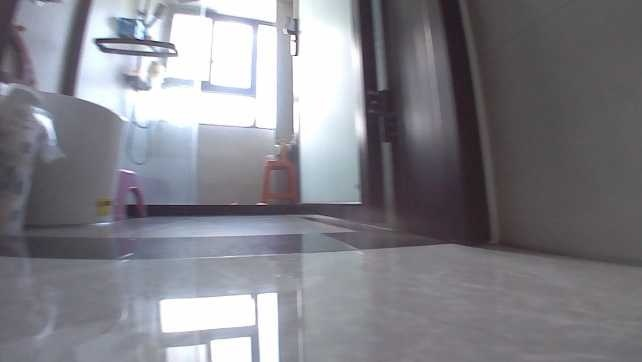door_anno: (280, 0, 449, 230)
plastic_stool: (110, 165, 148, 219)
toilet: (16, 80, 127, 224)
